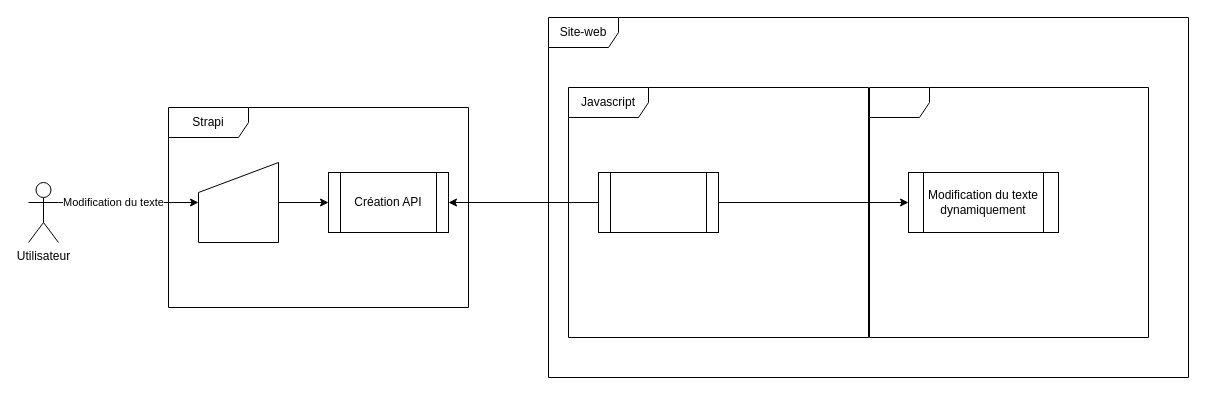
This 1206x395 diagram has some shape labels left out. The shapes that lost their labels are listed below. From the top down, each one's box as (x1, y1, x2, y2) in pixels, then its label:
(198, 162, 278, 242): Interface admin
(598, 172, 718, 232): Appel de l'API
(868, 86, 1148, 338): HTML
